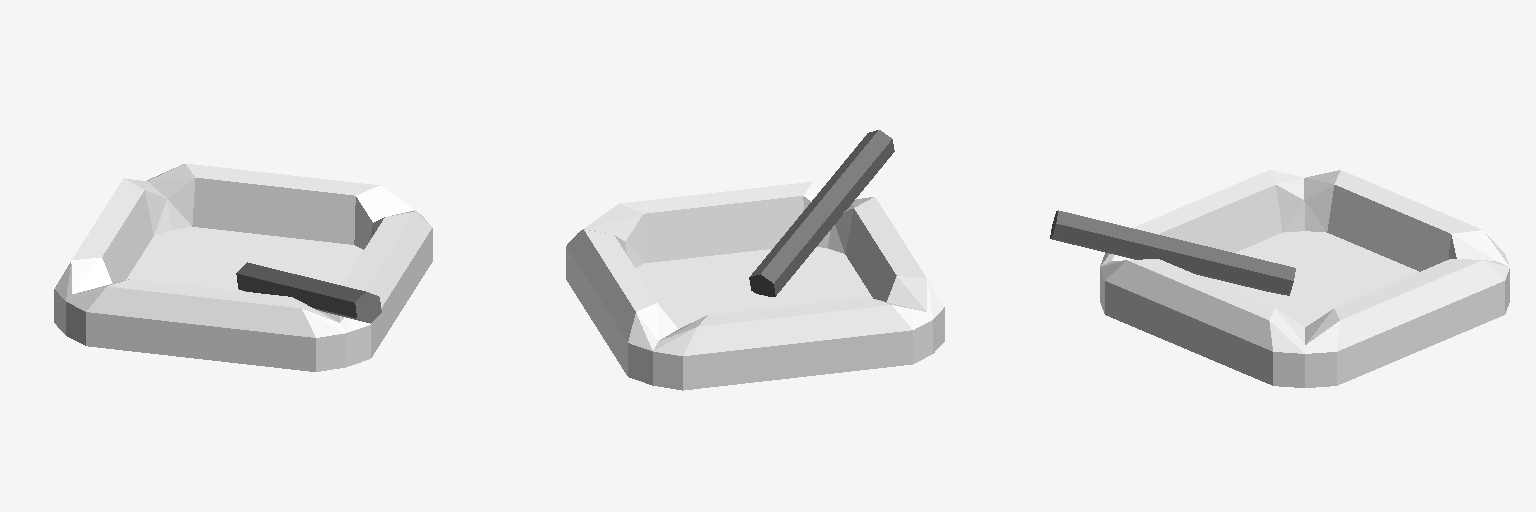
Rendered from prop_ceniceroLow.obj.
3 renders of one model, left to right at view 1: azimuth 30°, elevation 25°; view 2: azimuth 150°, elevation 25°; view 3: azimuth 270°, elevation 25°, orthographic.
Parts seen in each view (by area): view 1: ceniceroLow, ceniceroLow cigarro; view 2: ceniceroLow, ceniceroLow cigarro; view 3: ceniceroLow, ceniceroLow cigarro.
Boxes of the visible parts, x1,y1,x2,y2 form: ceniceroLow: [54, 163, 432, 371]; ceniceroLow cigarro: [236, 262, 381, 323]; ceniceroLow: [566, 182, 944, 390]; ceniceroLow cigarro: [749, 130, 894, 296]; ceniceroLow: [1100, 170, 1509, 387]; ceniceroLow cigarro: [1050, 210, 1295, 295].
Bounding box in the file's own units: 0.17 × 0.0416 × 0.1907.